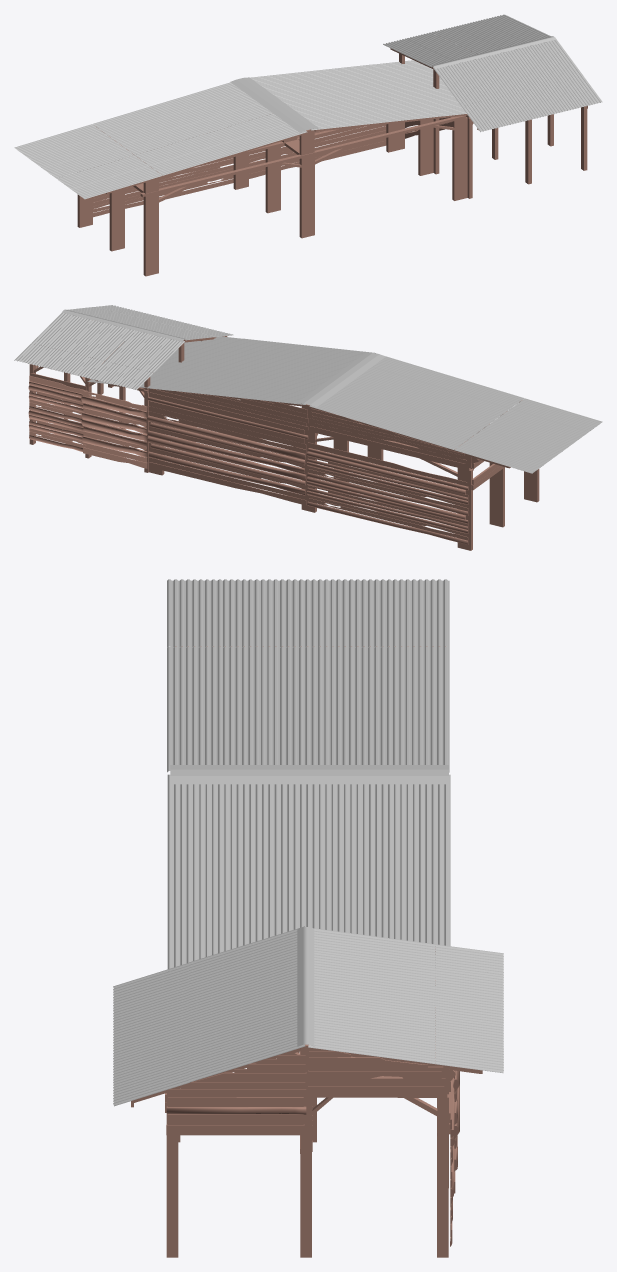
The model's file is Farm_barn.fbx.
3 views of the same model, one above another, from view 1: azimuth 30°, elevation 25°; view 2: azimuth 150°, elevation 25°; view 3: azimuth 270°, elevation 25° (orthographic). The views are drawn at different scales.
Visible parts, largest first — view 1: gubuk_besar_001, gubuk_besar_001_2; view 2: gubuk_besar_001, gubuk_besar_001_2; view 3: gubuk_besar_001, gubuk_besar_001_2.
Part boxes in pixels (x1,y1,x2,y2): gubuk_besar_001: (14, 60, 468, 276); gubuk_besar_001_2: (383, 14, 602, 198); gubuk_besar_001: (87, 336, 602, 550); gubuk_besar_001_2: (14, 305, 233, 472); gubuk_besar_001: (167, 579, 450, 1142); gubuk_besar_001_2: (113, 926, 503, 1257).
Bounding box in the file's own units: 1920 × 390 × 643.
